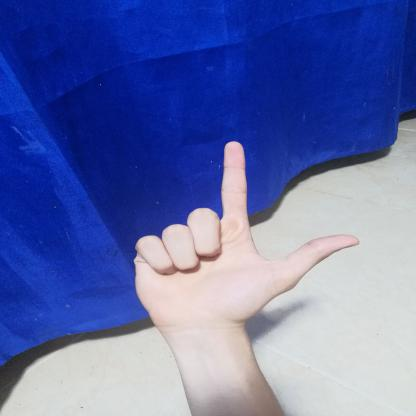LAAM: (110, 130, 372, 341)
